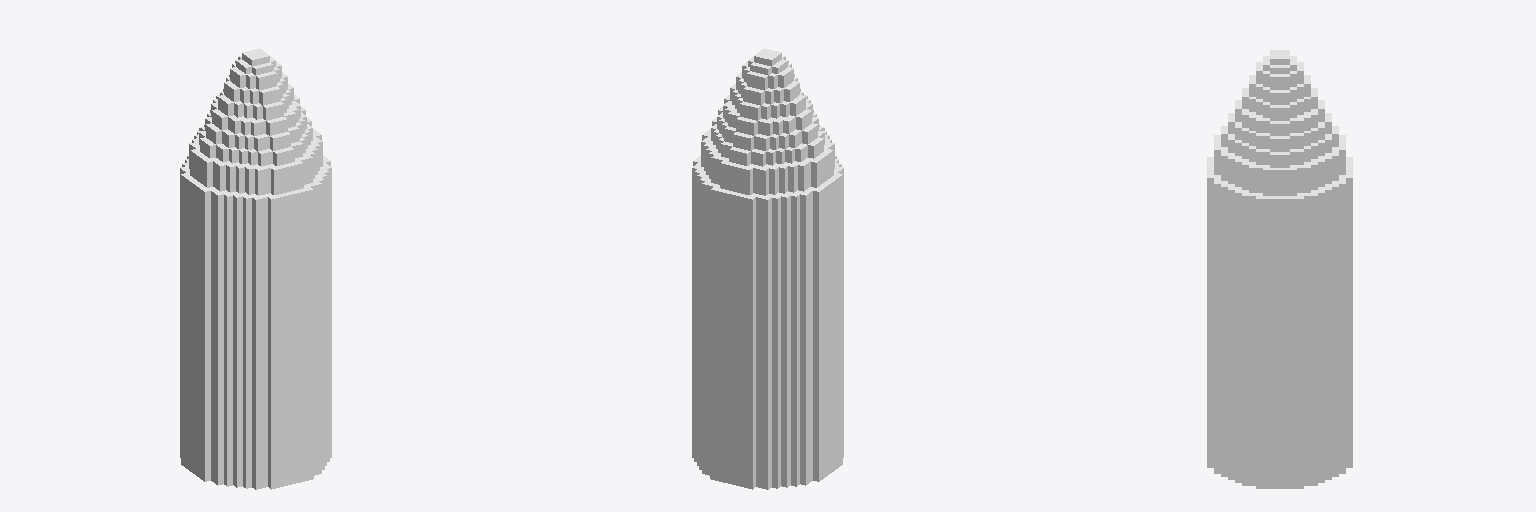
File: Lake_IV_fairing_close.obj
The picture shows the model from 3 angles: view 1: azimuth 30°, elevation 25°; view 2: azimuth 150°, elevation 25°; view 3: azimuth 270°, elevation 25°; orthographic projection.
Visible parts, largest first — view 1: object 1; view 2: object 1; view 3: object 1.
Part boxes in pixels (bbox=[...]): object 1: bbox=[180, 48, 331, 489]; object 1: bbox=[692, 48, 843, 489]; object 1: bbox=[1207, 50, 1352, 488].
Size of the model in its own units: 2.1 by 6.4 by 2.1.